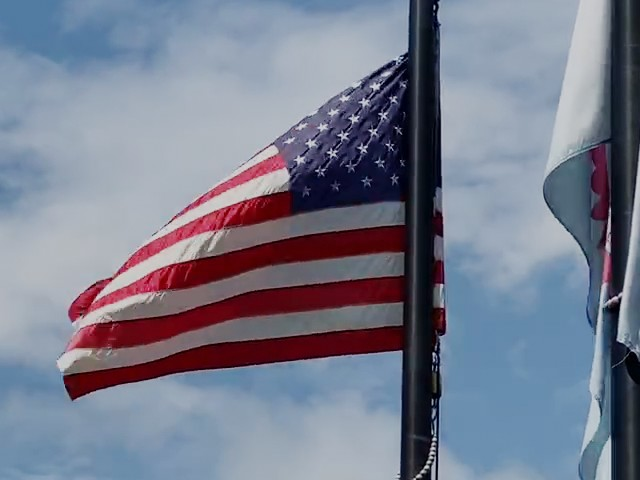America flag: (54, 50, 406, 402)
